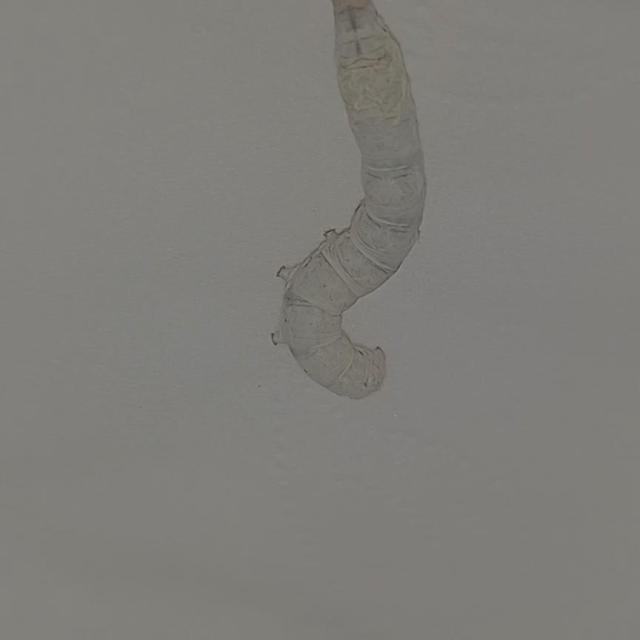Healthy: (262, 2, 444, 414)
